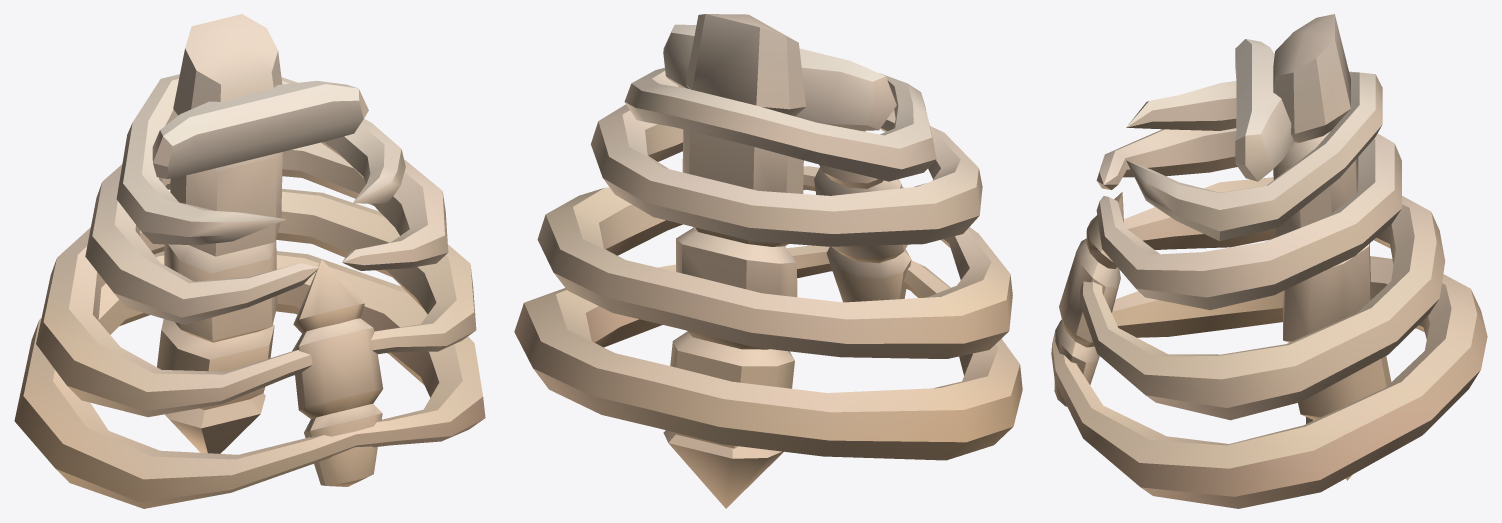
File: kay-costelas.gltf
3 renders of one model, left to right at view 1: azimuth 30°, elevation 25°; view 2: azimuth 150°, elevation 25°; view 3: azimuth 270°, elevation 25°, orthographic. The views are drawn at different scales.
Parts seen in each view (by area): view 1: ribcage; view 2: ribcage; view 3: ribcage.
Boxes of the visible parts, x1,y1,x2,y2 form: ribcage: (14, 14, 485, 508); ribcage: (514, 14, 1022, 508); ribcage: (1051, 14, 1487, 508).
Bounding box in the file's own units: 0.4228 × 0.4291 × 0.3734.
Materials: 1 (1 with a texture image).
